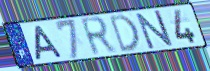4: (173, 8, 197, 45)
7: (53, 18, 80, 61)
A: (33, 24, 65, 62)
D: (108, 12, 142, 54)
N: (134, 9, 176, 51)
R: (78, 14, 119, 58)
